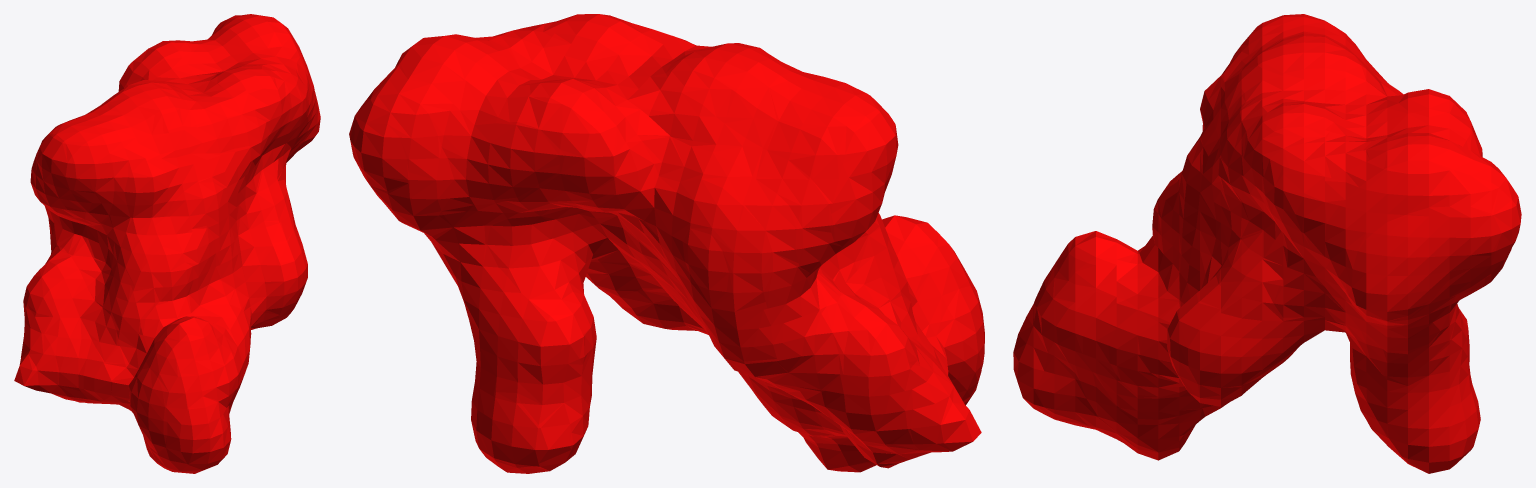
File: potC_coarse.dae
3 renders of one model, left to right at view 1: azimuth 30°, elevation 25°; view 2: azimuth 150°, elevation 25°; view 3: azimuth 270°, elevation 25°, orthographic. The views are drawn at different scales.
Visible parts, largest first — view 1: potC; view 2: potC; view 3: potC.
Boxes of the visible parts, <box> form: potC: <box>14,14,320,473</box>; potC: <box>349,14,984,473</box>; potC: <box>1013,14,1521,473</box>.
Size of the model in its own units: 63.41 by 56.47 by 60.5.
